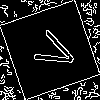V: (25, 25, 80, 75)
